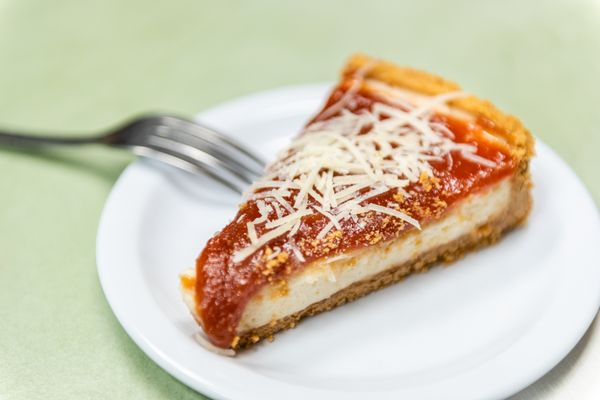burger: (1, 113, 266, 196)
soup: (185, 52, 537, 353)
